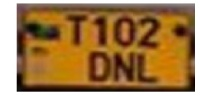T: (64, 13, 91, 47)
